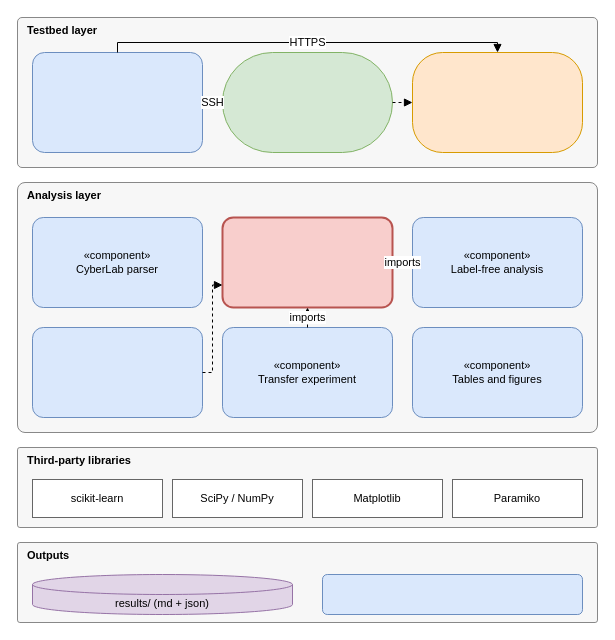
The diagram is 615 pixels wide and 640 high, and some of its shapes have lost their labels. The shapes that lost their labels are listed below. From the top down, each one's centre as x and y in pixels, then its label:
At (117,102): "«component» Attacker harness (Python, Paramiko)".
At (307,102): "«component» Cowrie honeypot (Docker container)".
At (497,102): "«external» LLM APIs (AWS Bedrock)".
At (307,262): "«library» session_features".
At (117,372): "«component» Annotation tools".
At (452,594): "Report builder (python-docx)".
